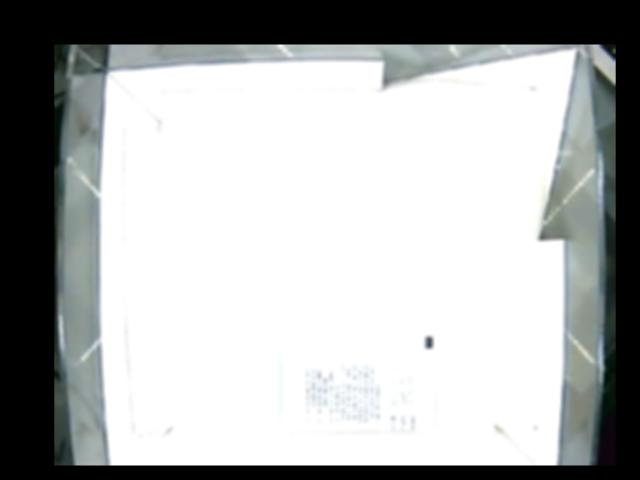Medicine: (277, 333, 436, 432)
